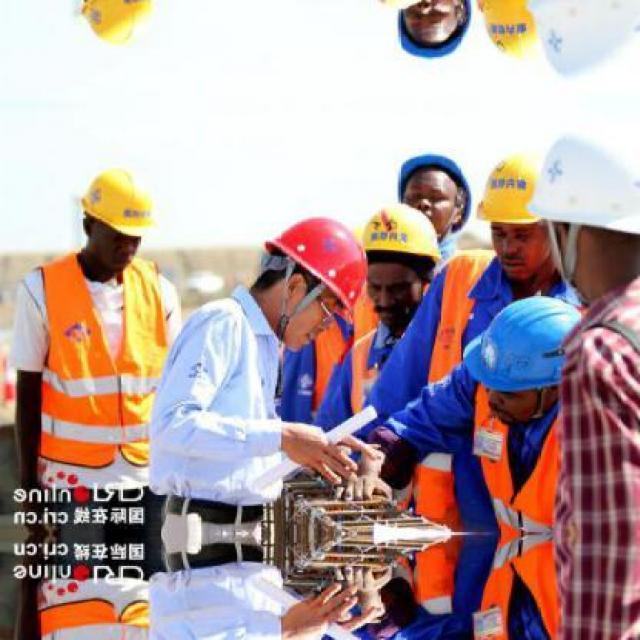reflective_jacket: (19, 255, 174, 473), (432, 253, 569, 392), (472, 404, 564, 533)
safety_helmet: (458, 293, 586, 395), (254, 211, 374, 316), (526, 129, 639, 234), (70, 162, 166, 243), (354, 199, 443, 267), (475, 146, 547, 229)
